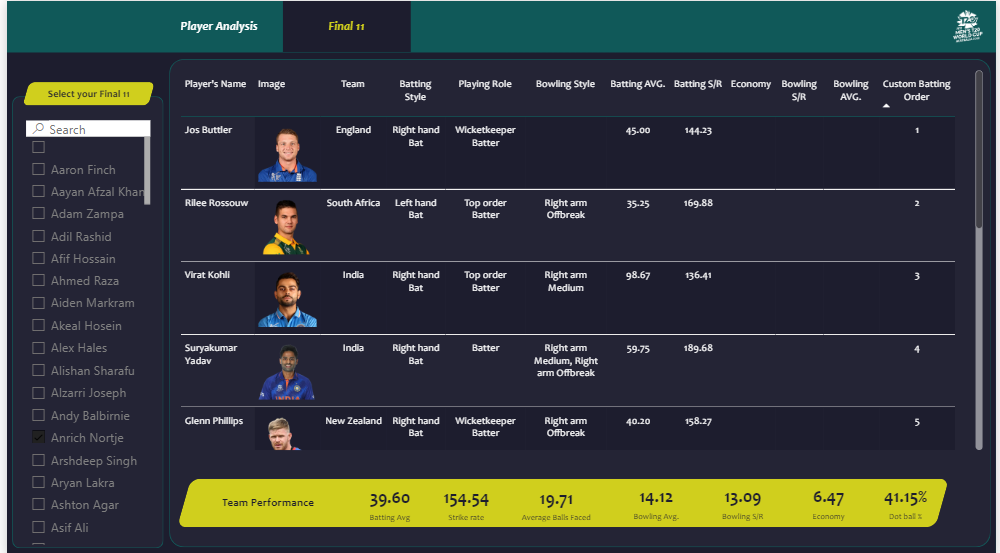

What the dashboard file says about the page in this screenshot:
{"tool":"powerbi","page":{"name":"New Final12","canvas":[1280,720],"ordinal":5},"visuals":[{"type":"shape","box":[0,66,1280,654],"z":0},{"type":"image","box":[1220,3,48,59],"z":1000},{"type":"shape","box":[7,122.9,196,585.1],"z":1000,"group":"g1"},{"type":"shape","box":[210.7,75.5,1063.4,632.2],"z":2000},{"type":"actionButton","title":"Button Player Ana selected","box":[357,0,166,66],"z":3000},{"type":"actionButton","title":"Button Player Ana selected","box":[191.4,0,165.7,65.7],"z":4000},{"type":"group","id":"g1","title":"Group 1","box":[7,122.9,196,585.1],"z":6000},{"type":"shape","box":[19.6,104.9,171.5,30.4],"z":7000},{"type":"pivotTable","fields":{"Values":["Min(dim_player.team)","Min(dim_player.Batting Style)","Min(dim_player.Playing Role)","Min(dim_player.Bowling Style)","Key_Measures.Bat Avg","Key_Measures.Strike rate","Key_Measures.Economy","Key_Measures.Bowling Strike Rate","Key_Measures.Bowling Average","Sum(dim_player.Custom Batting Order)"],"Rows":["dim_player.name","dim_player.image"]},"box":[219.9,85.4,1048,501.1],"z":8000},{"type":"shape","box":[219.9,618.4,999.7,63],"z":9000},{"type":"card","fields":{"Values":["Key_Measures.Strike rate"]},"box":[548.4,620.2,93,60],"z":10000},{"type":"slicer","fields":{"Values":["dim_player.name"]},"box":[19.7,149.3,170.5,558.7],"z":11000,"group":"g1"},{"type":"card","fields":{"Values":["Key_Measures.Avergate Balls Faced"]},"box":[657.3,621.9,109.5,56.9],"z":11000},{"type":"card","fields":{"Values":["Key_Measures.Bat Avg"]},"box":[449.4,620.2,92,60],"z":12000},{"type":"card","fields":{"Values":["Key_Measures.Bowling Strike Rate"]},"box":[907.4,618.4,92.3,60.4],"z":13000},{"type":"card","fields":{"Values":["Key_Measures.Economy"]},"box":[1012.6,618.4,100.9,60.4],"z":14000},{"type":"card","fields":{"Values":["Key_Measures.Dot ball %"]},"box":[1113.5,617.6,100.1,60.4],"z":15000},{"type":"card","fields":{"Values":["Key_Measures.Bowling Average"]},"box":[794.4,617.6,91.4,60.4],"z":16000},{"type":"shape","box":[251.8,632.1,172.5,34.3],"z":17000}]}

Visuals, with their boxes on the page's 1280x720 design canvas (x1, y1, x2, y2). These are canvas units, not pixel positions in the 1000x553 screenshot, which may show the page scaled, cropped or inside an application window:
shape: 0,66,1280,720
image: 1220,3,1268,62
shape: 7,123,203,708
shape: 211,76,1274,708
"Button Player Ana selected" actionButton: 357,0,523,66
"Button Player Ana selected" actionButton: 191,0,357,66
"Group 1" group: 7,123,203,708
shape: 20,105,191,135
pivotTable - Min(dim_player.team) x Min(dim_player.Batting Style): 220,85,1268,586
shape: 220,618,1220,681
card - Key_Measures.Strike rate: 548,620,641,680
slicer - dim_player.name: 20,149,190,708
card - Key_Measures.Avergate Balls Faced: 657,622,767,679
card - Key_Measures.Bat Avg: 449,620,541,680
card - Key_Measures.Bowling Strike Rate: 907,618,1000,679
card - Key_Measures.Economy: 1013,618,1114,679
card - Key_Measures.Dot ball %: 1114,618,1214,678
card - Key_Measures.Bowling Average: 794,618,886,678
shape: 252,632,424,666
